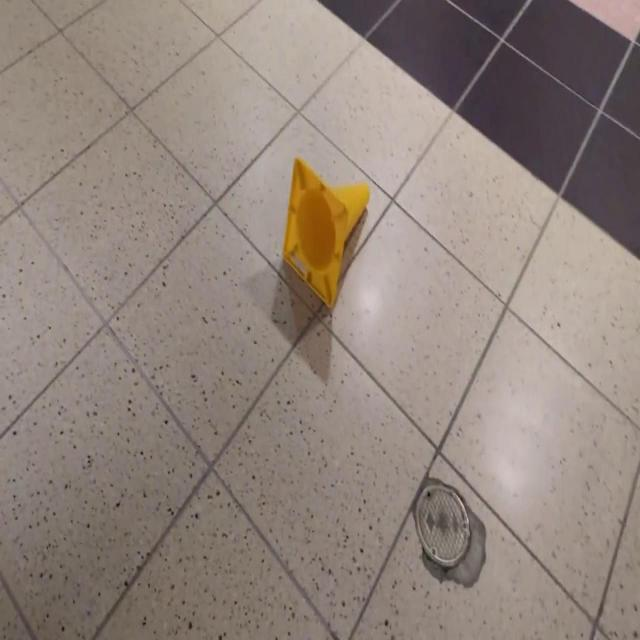frc_cone: (282, 157, 370, 312)
